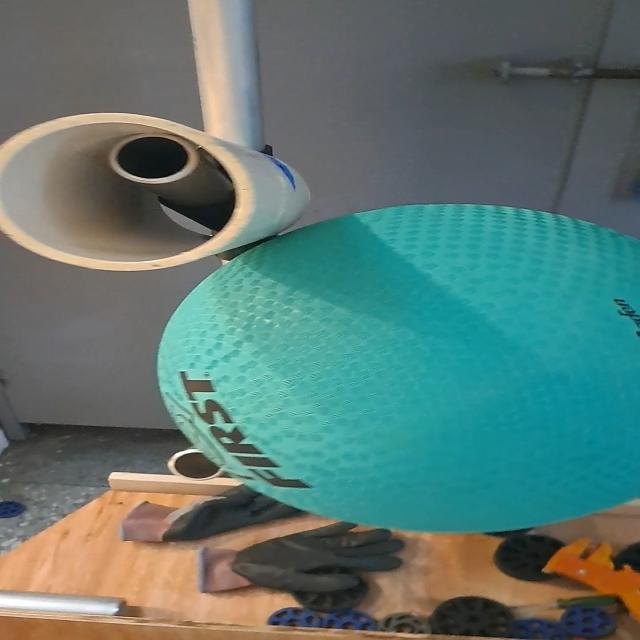ALGAE: (155, 203, 640, 536)
CORAL: (0, 104, 316, 274)
